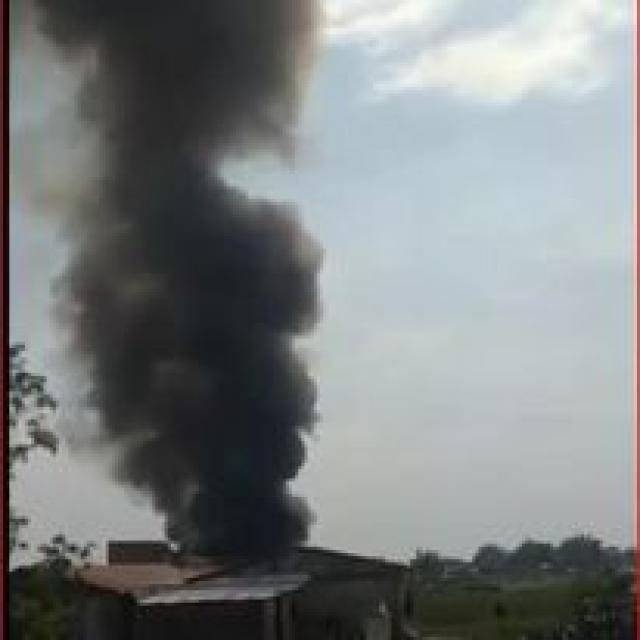Smoke: (13, 2, 324, 550)
